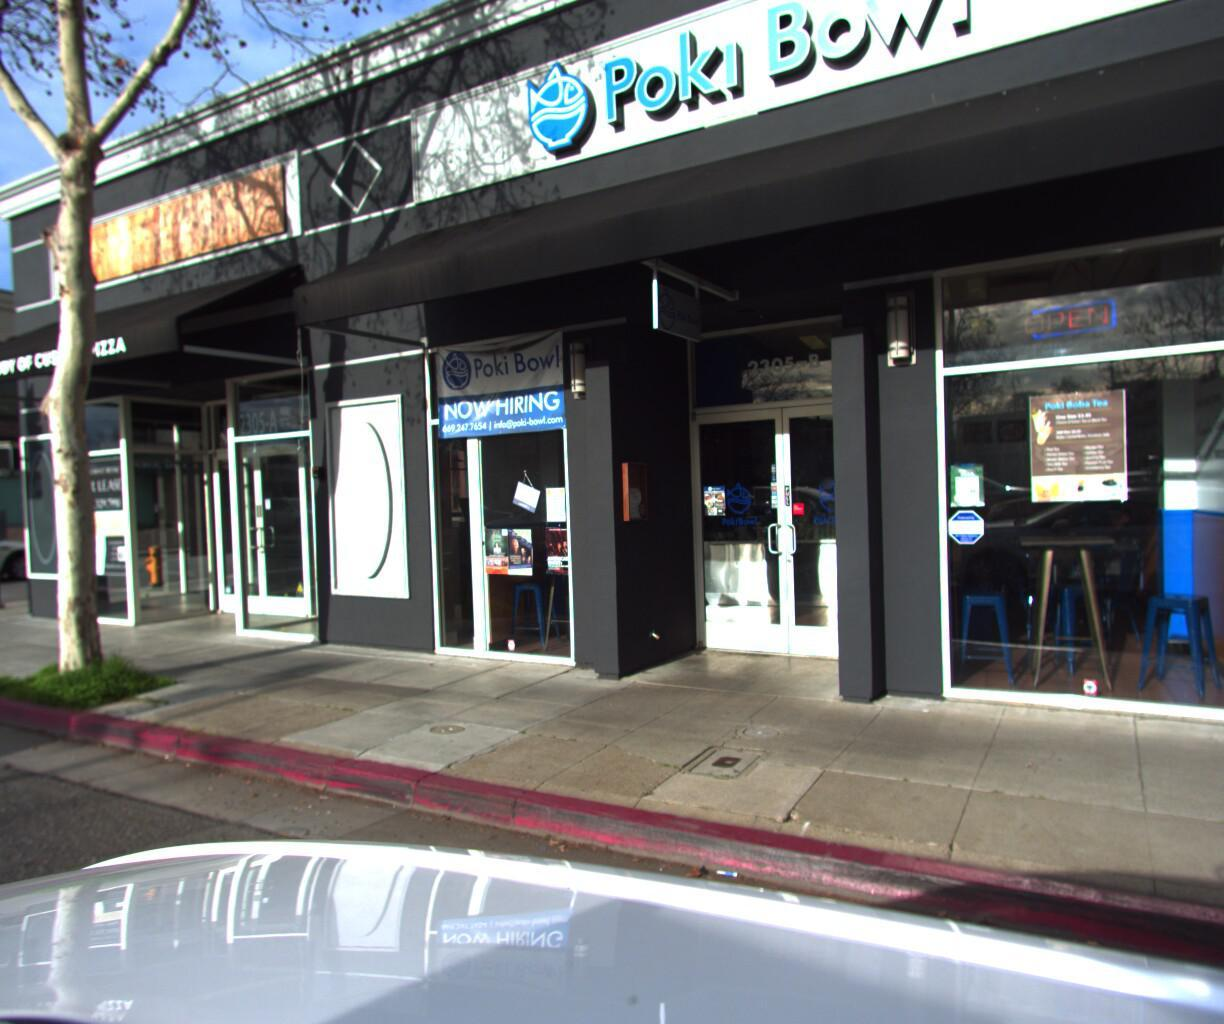car: (0, 514, 65, 595)
